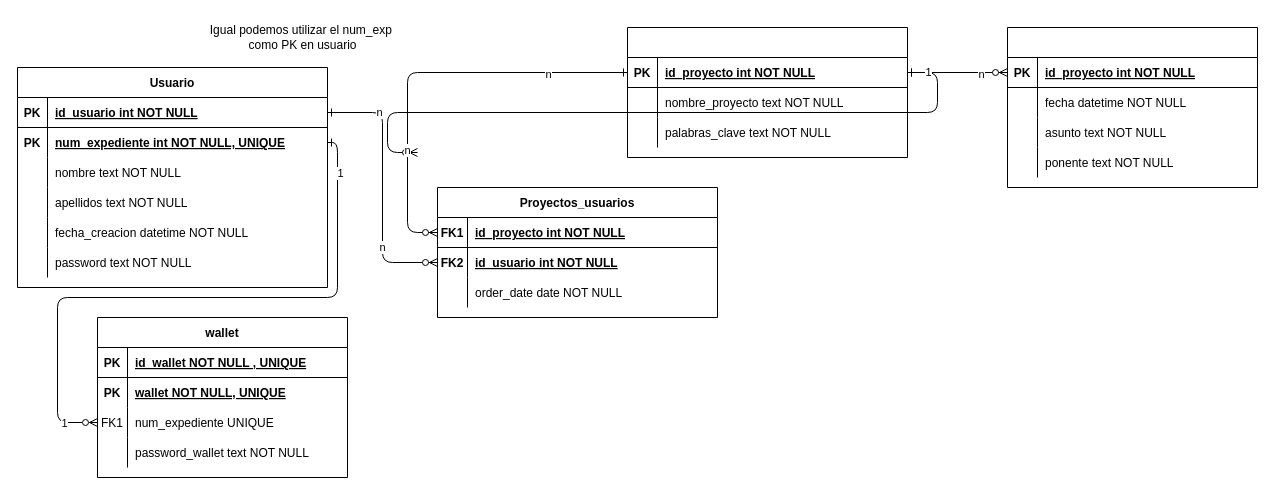
Image size: 1275x495. Some labels were removed from this diagram. The shapes that lost their labels are listed below. From the top down, each one's box as (x1, y1, x2, y2) in pixels, then its label:
(626, 26, 908, 158): Proyectos
(1006, 26, 1258, 188): Reuniones
